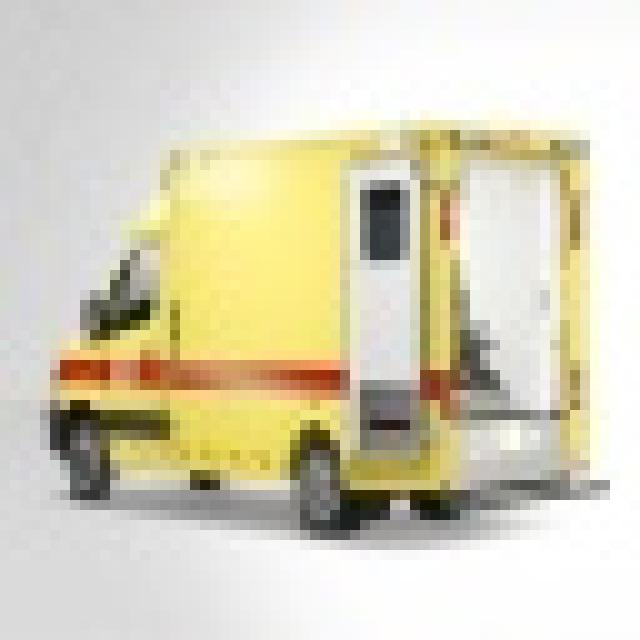Ambulance: (40, 110, 610, 530)
